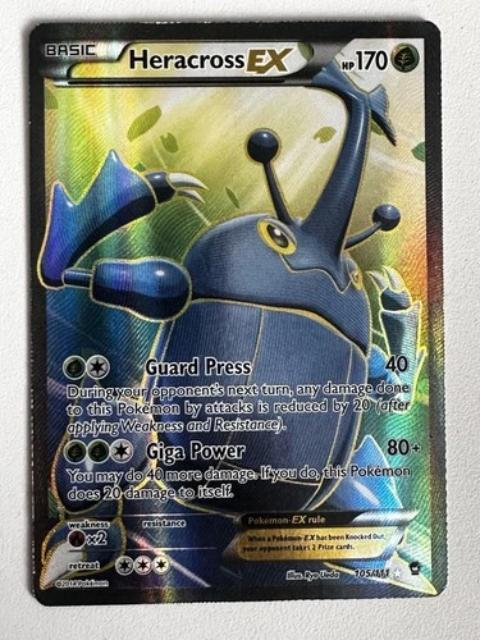Card: (20, 14, 453, 611)
Name: (120, 41, 300, 76)
